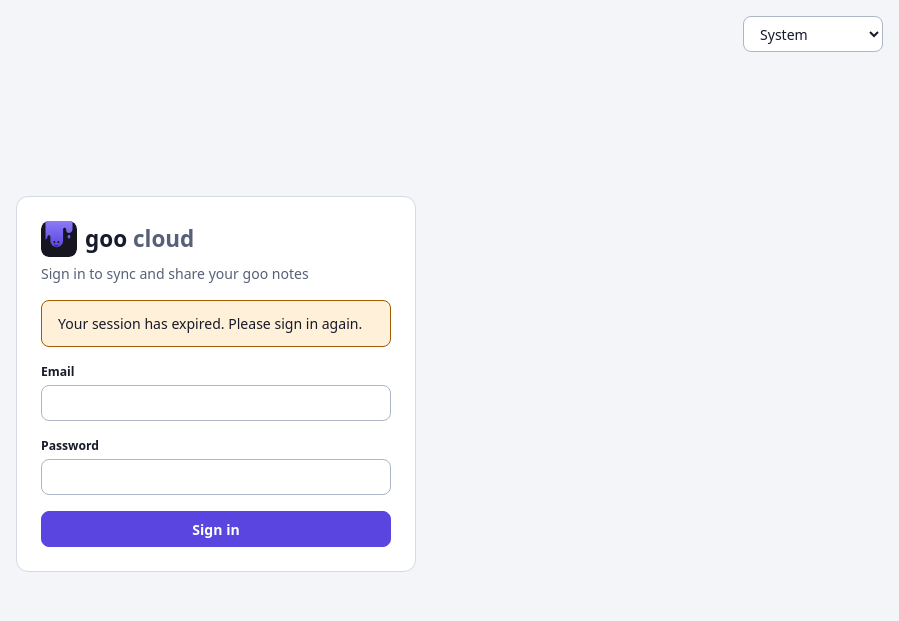
LoginPage › shows the server message on bad credentials and the session-expired notice
The width and height of the screenshot is (899, 621).
Expected: the text "Your session has expired. Please sign in again." is shown, 41,300 -> 391,347
Type "a@example.com" into the field labelled "Email" at (216, 403), box 41,385 -> 391,421
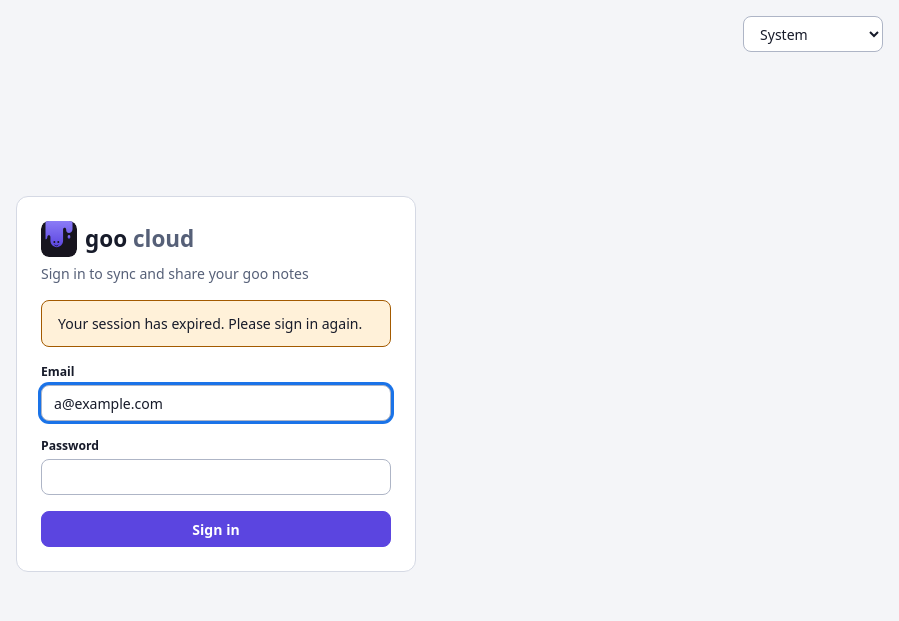
Type "x" into the password field labelled "Password" at (216, 477), box 41,459 -> 391,495
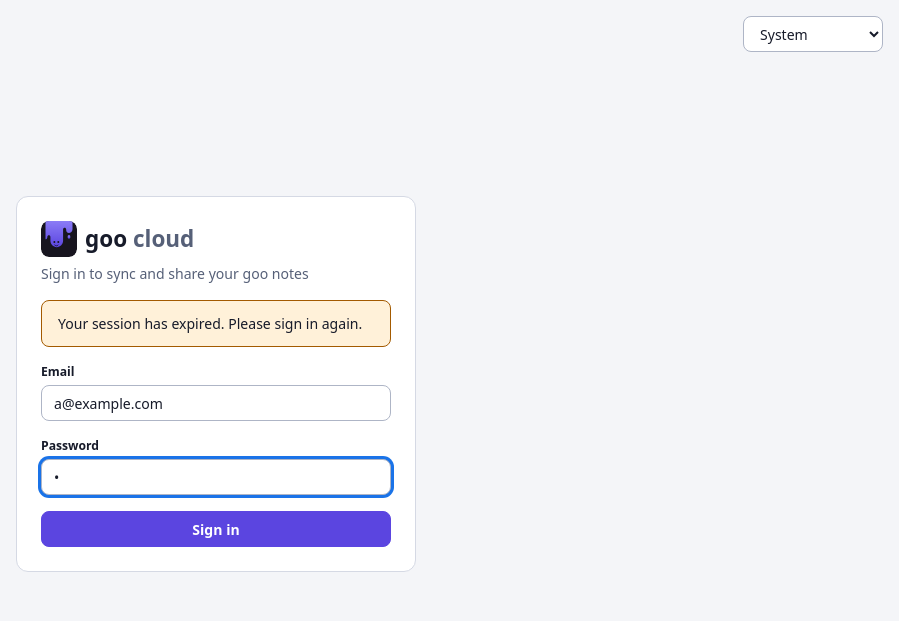
Click the button "Sign in" at (216, 529), box 41,511 -> 391,547
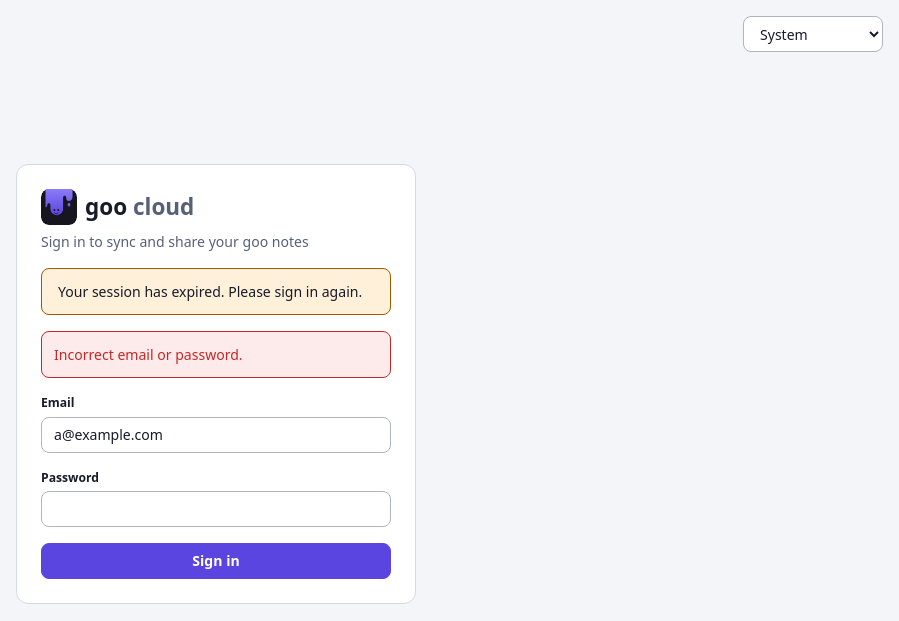
Now the text "Incorrect email or password." is shown, box 41,331 -> 391,378
